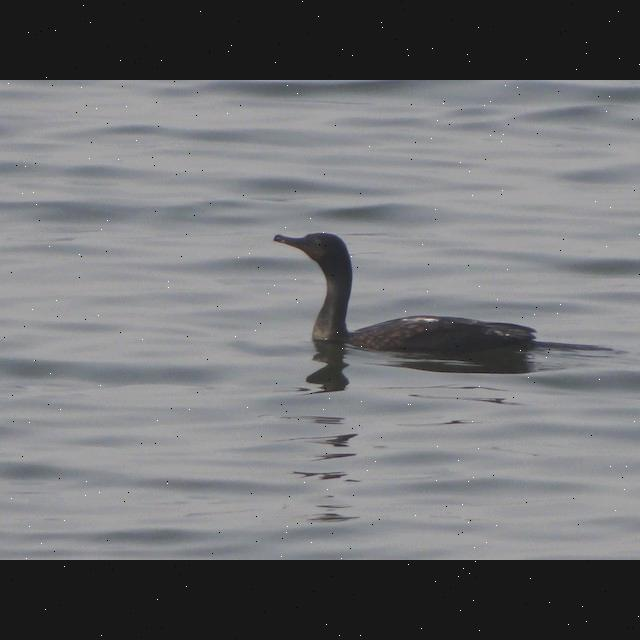cormorant: (272, 219, 544, 385)
